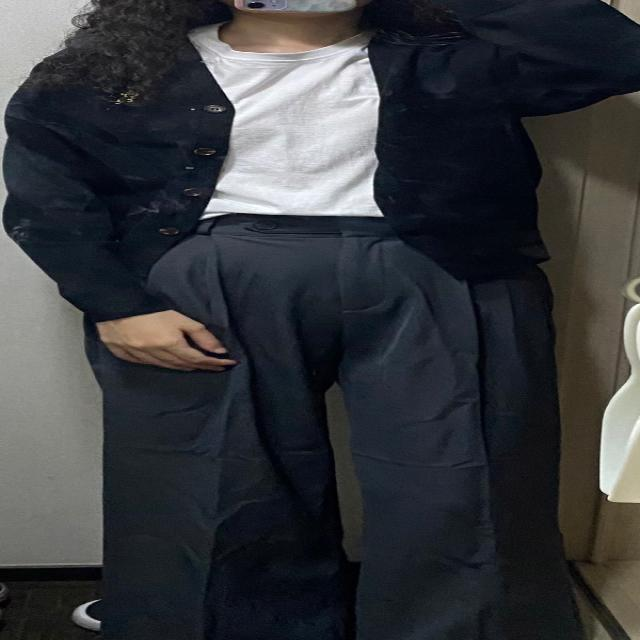cardigan: (0, 0, 640, 323)
slacks: (87, 213, 565, 640)
